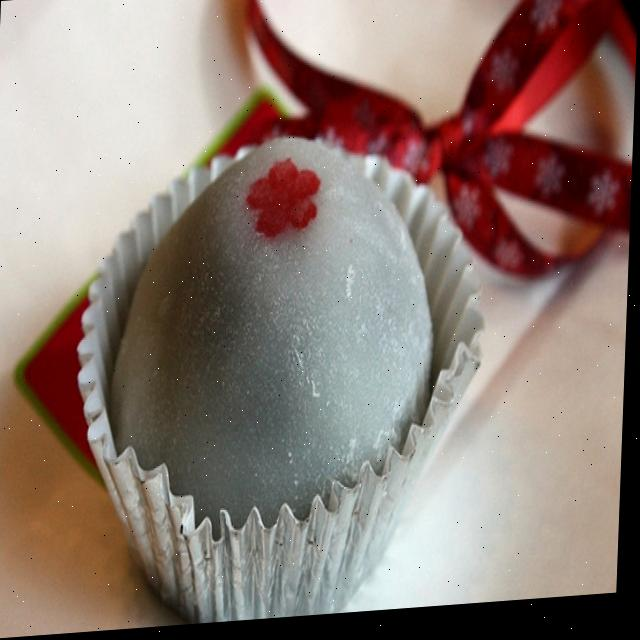蛋糕甜品: (25, 63, 527, 637)
